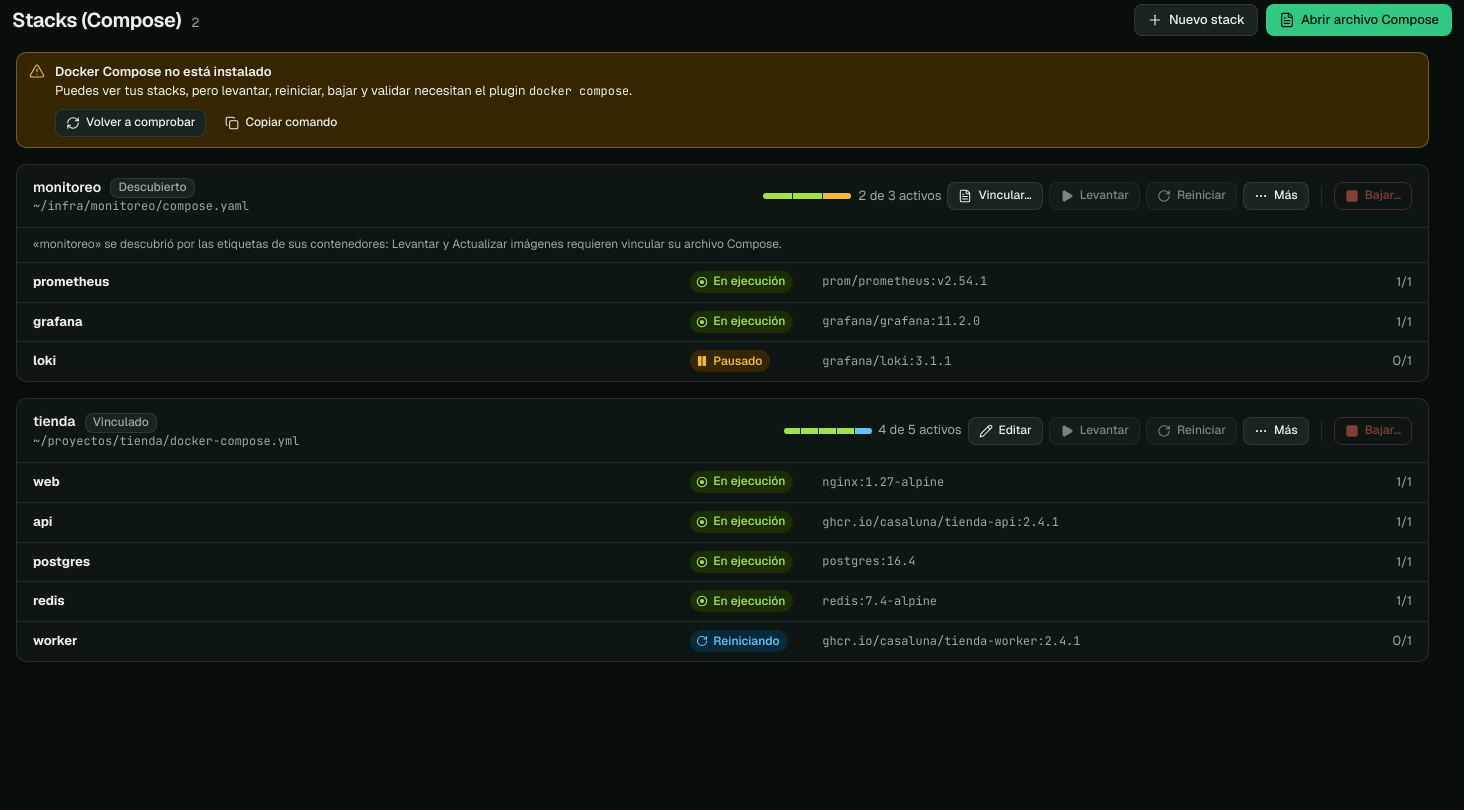
StacksPage › Compose no instalado con stacks descubiertos: aviso compacto, lista visible y acciones desactivadas
Expected: the text "Docker Compose no está instalado" is shown, [55,63,272,80]
Click the button "Volver a comprobar": (131, 123) [55,109,206,137]
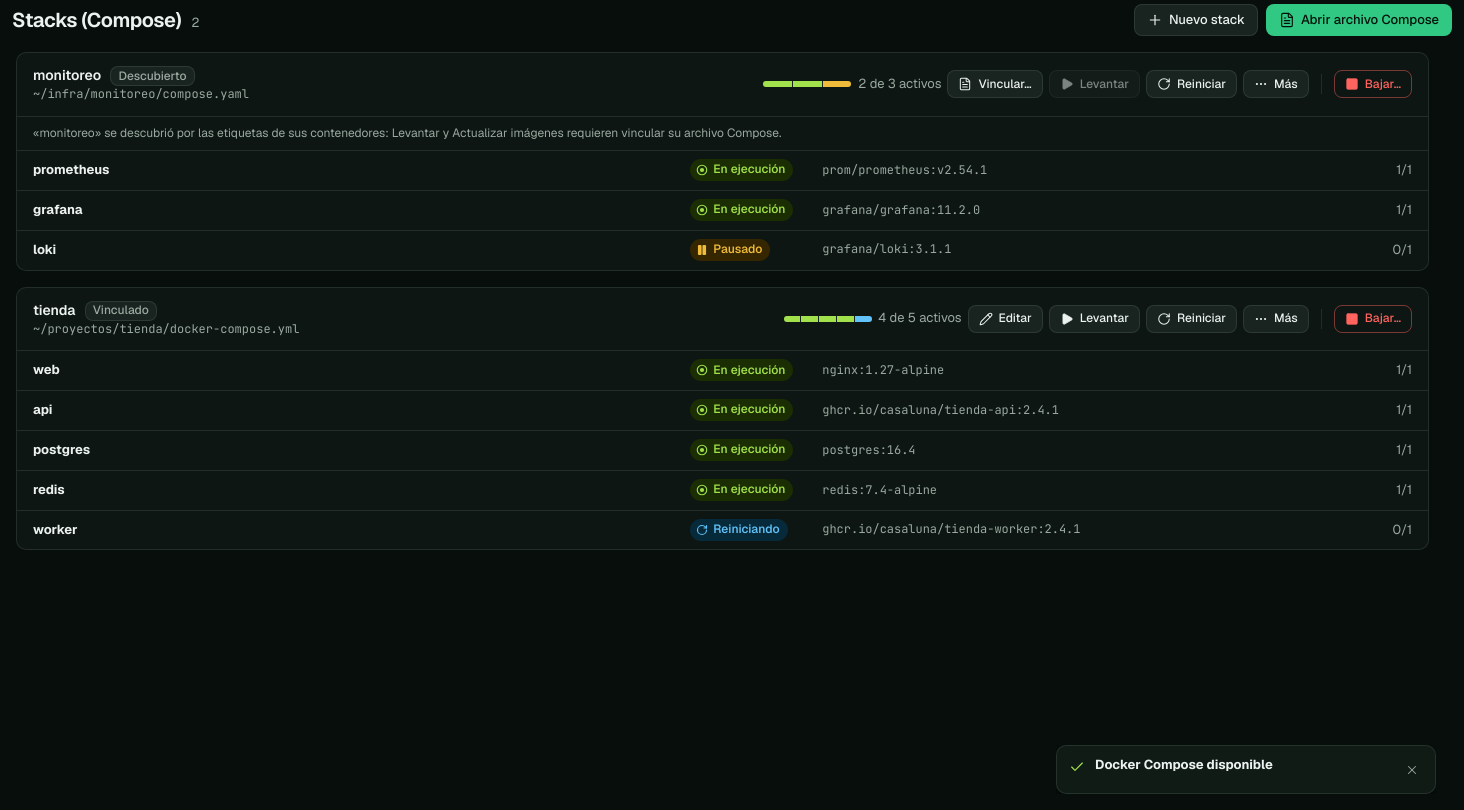
Expected: the text "Docker Compose disponible" is shown, [1095,756,1273,773]
